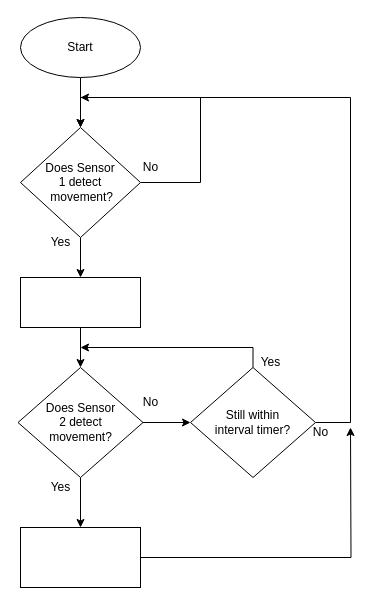
Some shapes in this 376 by 605 pixel diagram are drawn without their labels. The centre of each missing label's shape, as x and y in pixels:
Begin interval timer: the point at 80,302
Camera clips footage and uploads to database: the point at 80,557
